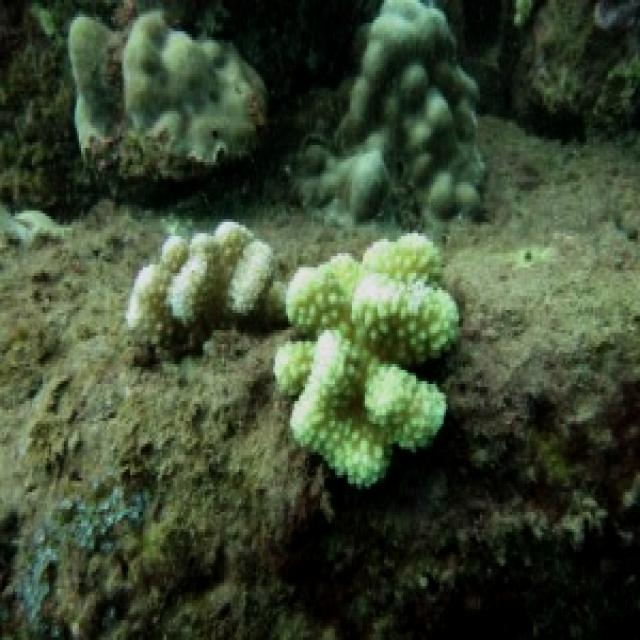Coral: (272, 233, 460, 491), (287, 0, 487, 241), (67, 7, 269, 166), (126, 219, 290, 349)
